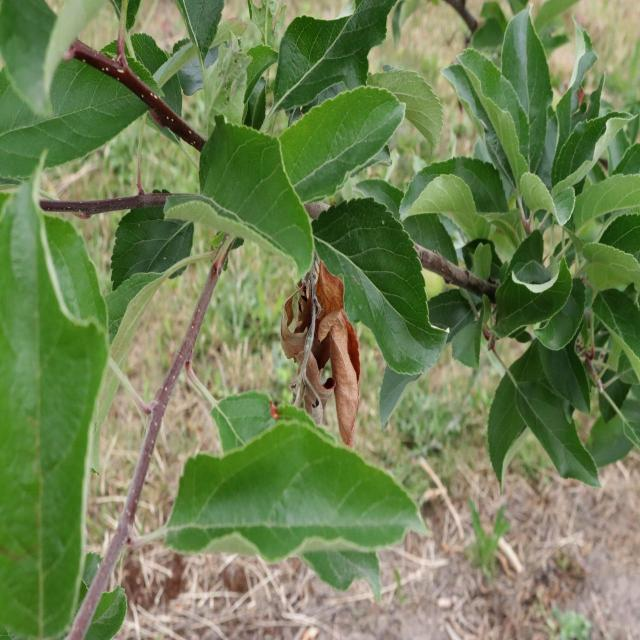-FireBlight-: (280, 272, 362, 422)
